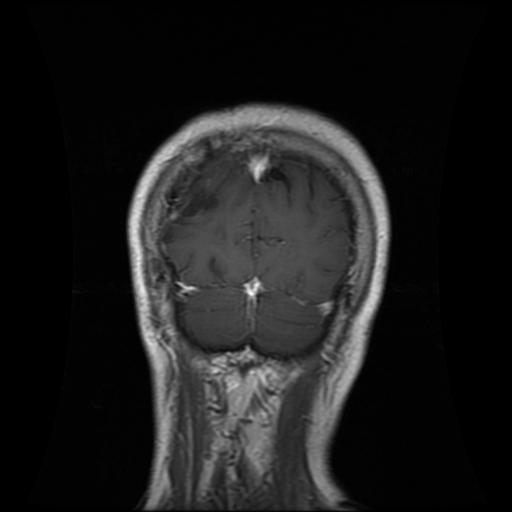Gliomia_tumour: (172, 175, 222, 217)
